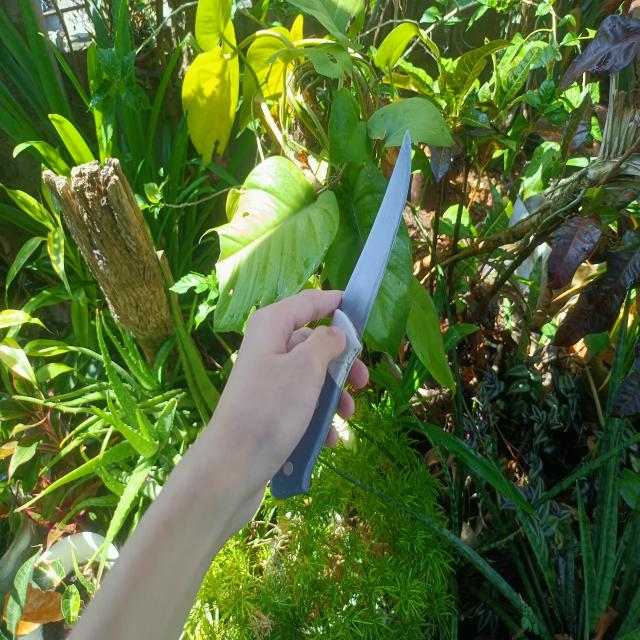knife: (267, 130, 411, 498)
